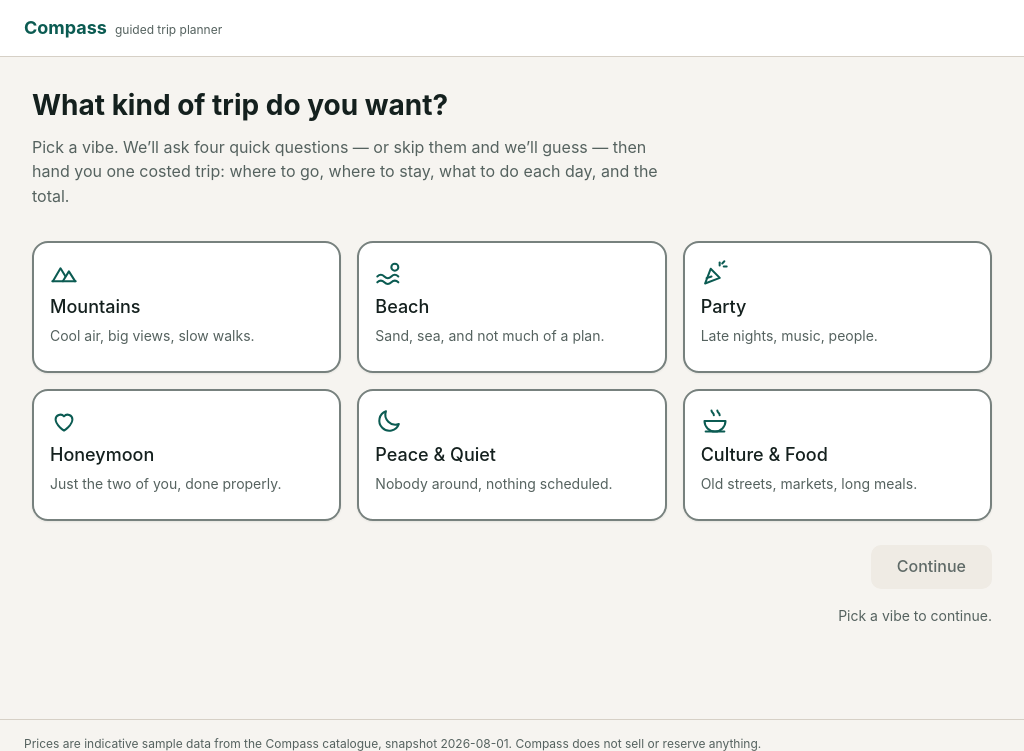
Test case: Why this trip (R10, R19) › is open on first render and lists three answer-quoting reasons and a numbered rejection
This screenshot has width=1024, height=751.
Click the button "Beach Sand, sea, and not much of a plan.": (402, 306) [357, 241, 667, 373]
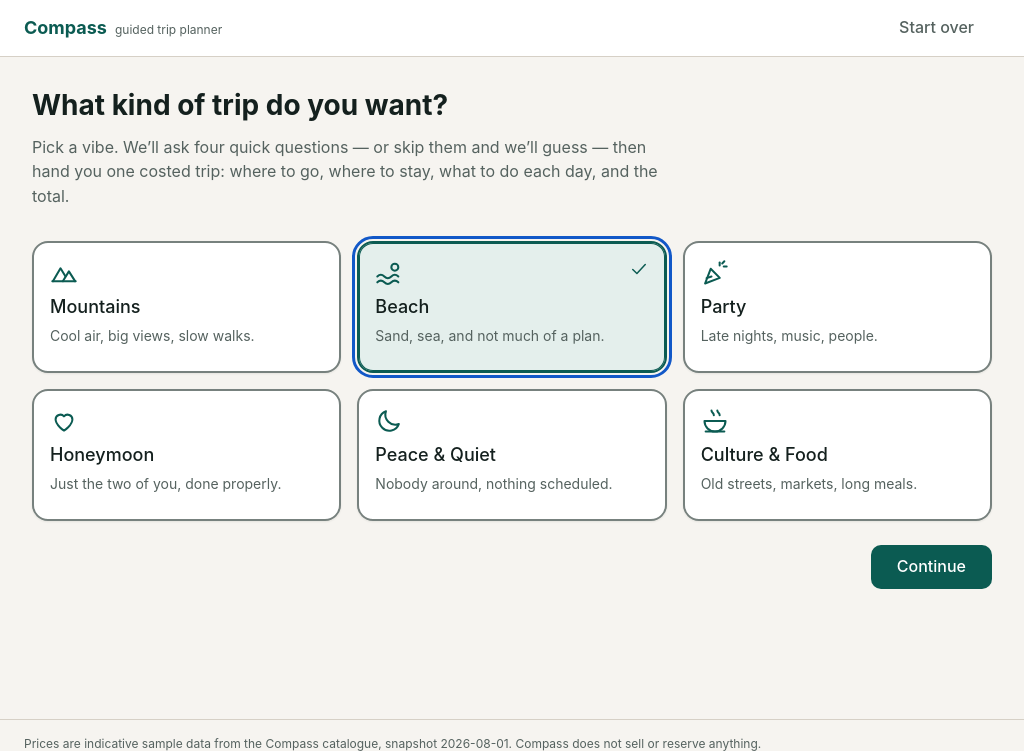
Click the button "Continue": (931, 567) [871, 545, 992, 589]
(page scrolled)
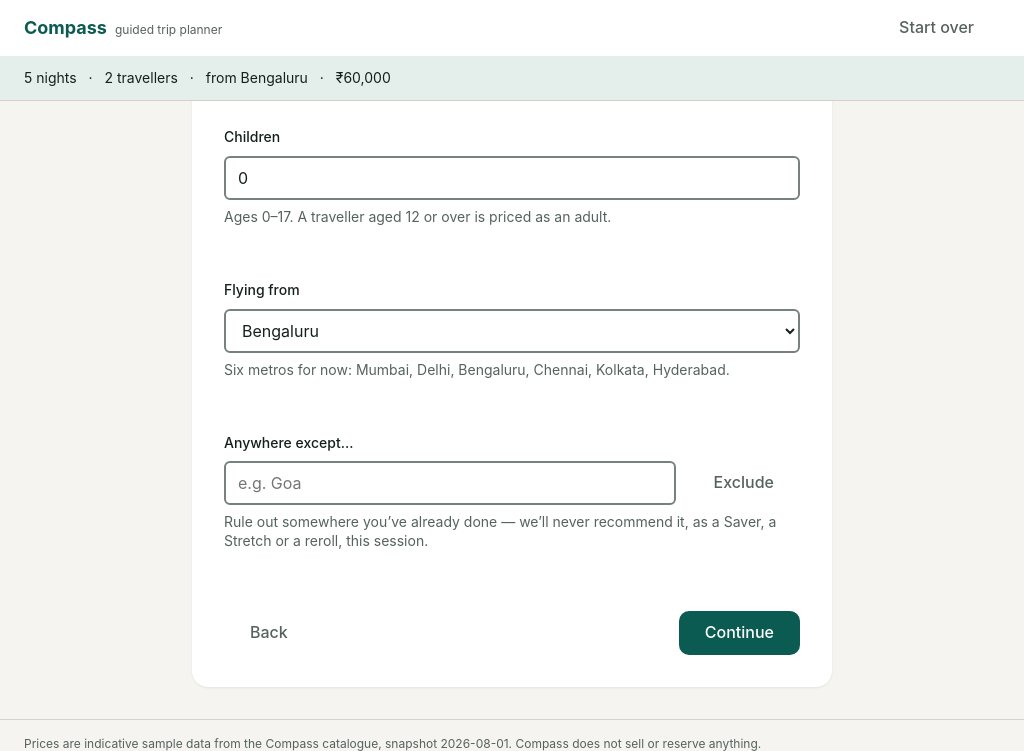
Click the button "Continue": (739, 633) [679, 611, 800, 655]
(page scrolled)
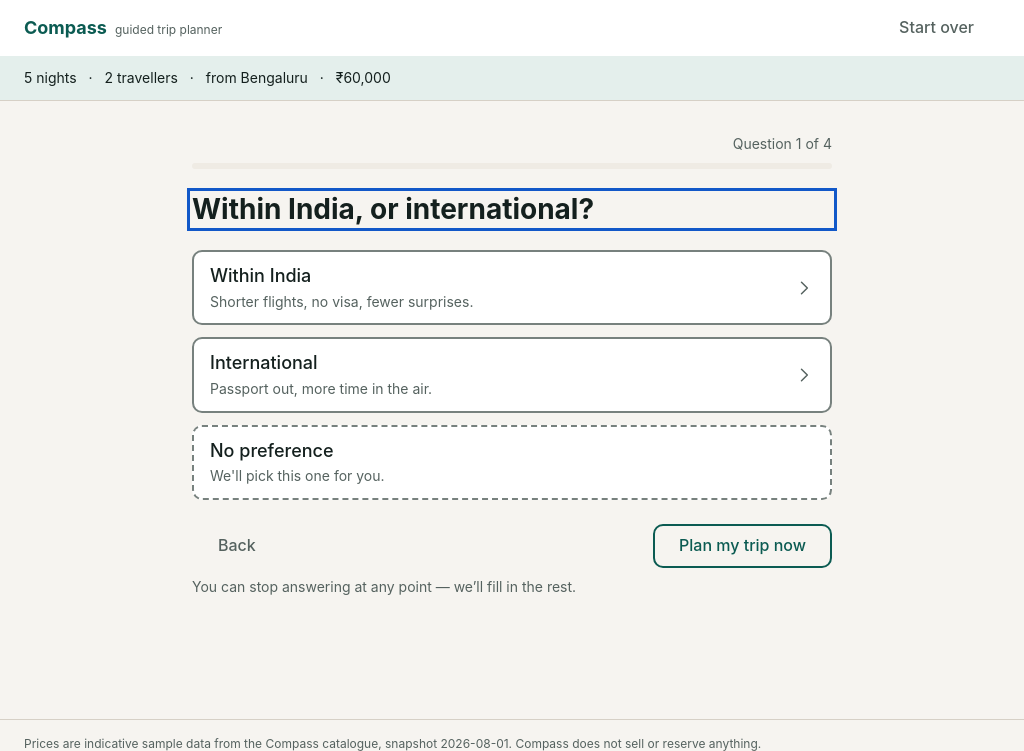
Now the text "Question 1 of 4" is shown, box [733, 135, 832, 152]
Click the button "Plan my trip now": (743, 546) [653, 524, 832, 568]
(page scrolled)
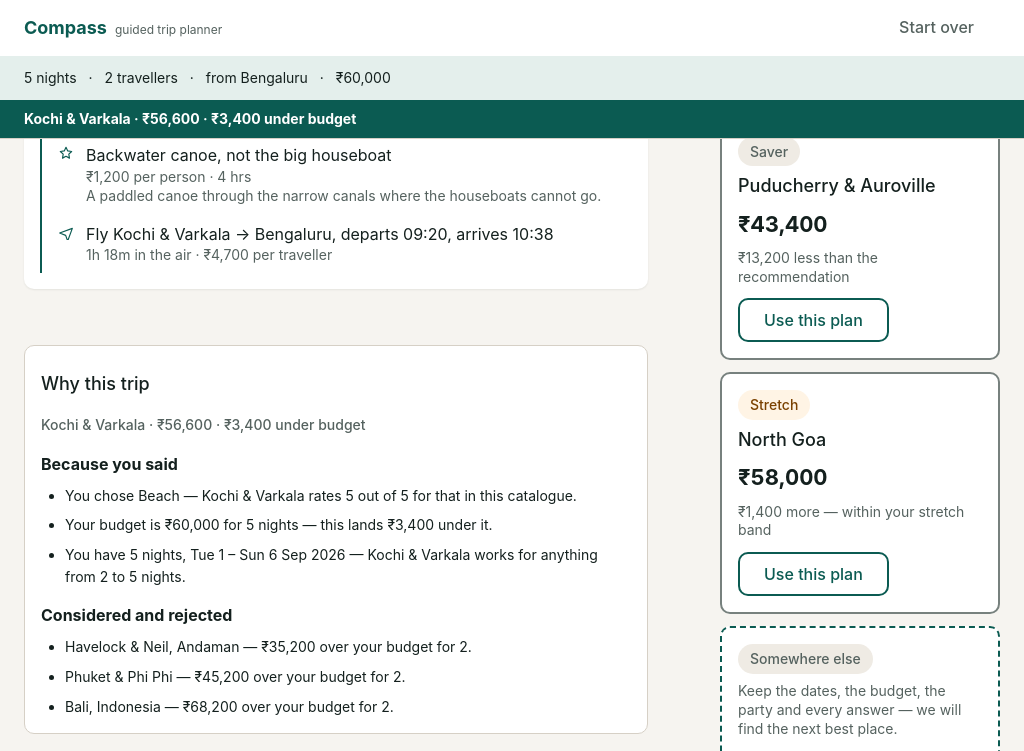
Click the heading "Why this trip": (95, 384) [41, 373, 150, 394]
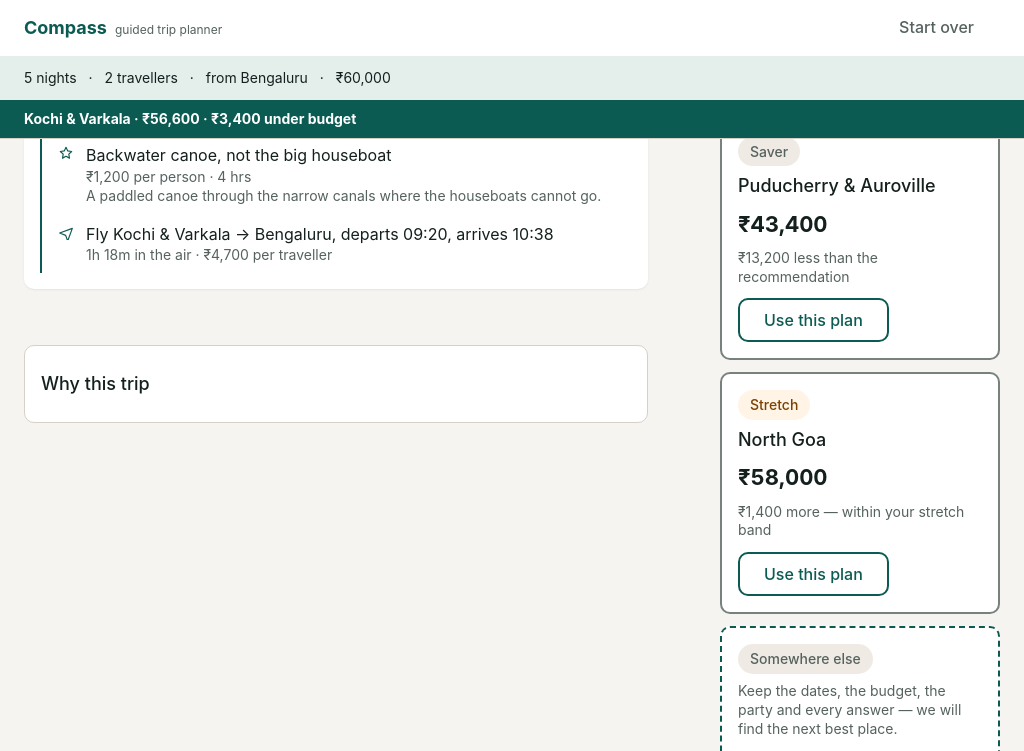
Click the heading "Why this trip": (95, 384) [41, 373, 150, 394]
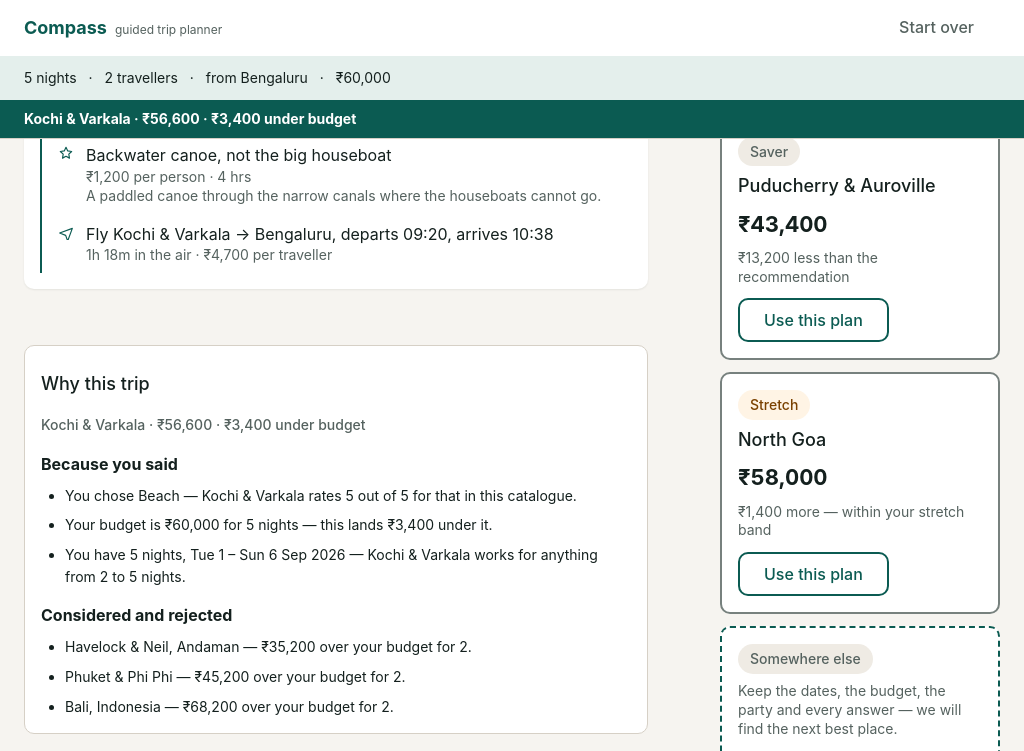
Now the heading "Because you said" is shown, box [41, 454, 178, 474]
Now the text "You chose Beach — Kochi & Varkala rates 5 out of 5 for that in this catalogue." is shown, box [65, 485, 631, 506]
Now the text "Your budget is ₹60,000 for 5 nights — this lands ₹3,400 under it." is shown, box [65, 516, 492, 533]
